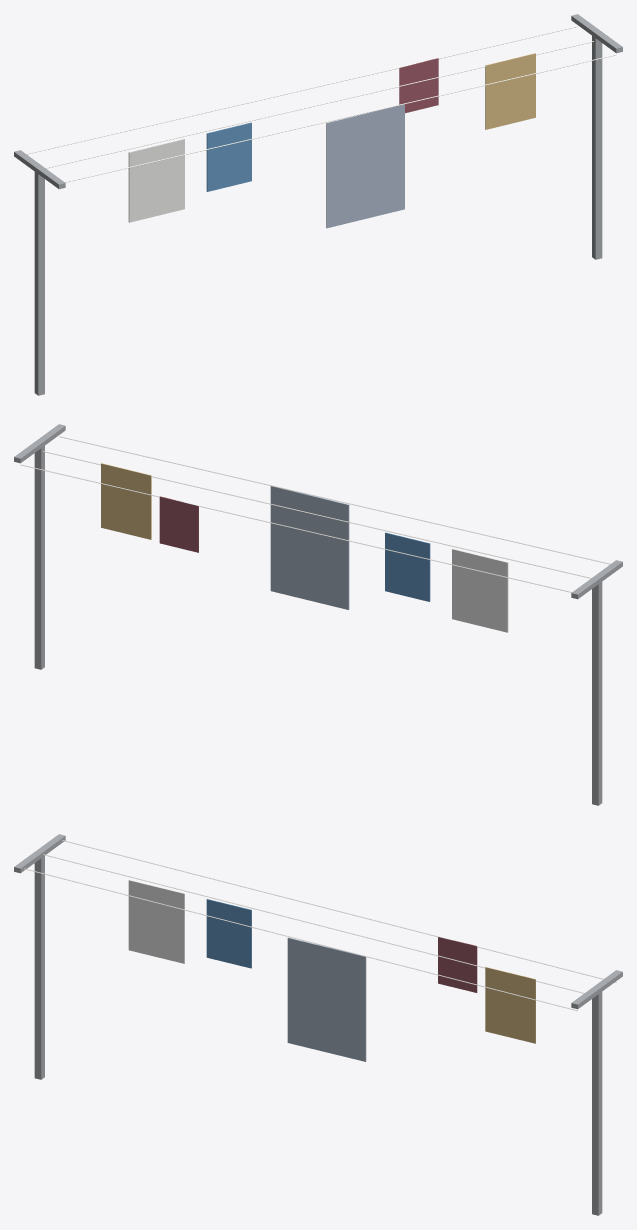
Rendered from washing_line.glb.
The picture shows the model from 3 angles, top to bottom: view 1: azimuth 30°, elevation 25°; view 2: azimuth 150°, elevation 25°; view 3: azimuth 330°, elevation 25°; orthographic projection.
Visible parts, largest first — view 1: washing_line_bed_b, washing_line_steel, washing_line_bed_w, washing_line_cushion, washing_line_blue, washing_line_paper, washing_line_velvet; view 2: washing_line_bed_b, washing_line_steel, washing_line_bed_w, washing_line_cushion, washing_line_blue, washing_line_paper, washing_line_velvet; view 3: washing_line_bed_b, washing_line_steel, washing_line_bed_w, washing_line_cushion, washing_line_blue, washing_line_paper, washing_line_velvet.
Part boxes in pixels (x1=…): washing_line_bed_b: x1=326, y1=104, x2=404, y2=228; washing_line_steel: x1=14, y1=14, x2=622, y2=395; washing_line_bed_w: x1=128, y1=139, x2=184, y2=222; washing_line_cushion: x1=485, y1=53, x2=535, y2=129; washing_line_blue: x1=206, y1=122, x2=251, y2=191; washing_line_paper: x1=26, y1=26, x2=616, y2=182; washing_line_velvet: x1=399, y1=58, x2=438, y2=113; washing_line_bed_b: x1=270, y1=486, x2=349, y2=609; washing_line_steel: x1=14, y1=424, x2=622, y2=805; washing_line_bed_w: x1=452, y1=549, x2=508, y2=632; washing_line_cushion: x1=101, y1=463, x2=151, y2=539; washing_line_blue: x1=385, y1=532, x2=430, y2=601; washing_line_paper: x1=20, y1=436, x2=610, y2=592; washing_line_velvet: x1=159, y1=496, x2=198, y2=552; washing_line_bed_b: x1=287, y1=937, x2=366, y2=1061; washing_line_steel: x1=14, y1=834, x2=622, y2=1215; washing_line_bed_w: x1=128, y1=880, x2=184, y2=963; washing_line_cushion: x1=485, y1=967, x2=535, y2=1043; washing_line_blue: x1=206, y1=899, x2=251, y2=968; washing_line_paper: x1=23, y1=840, x2=616, y2=1011; washing_line_velvet: x1=438, y1=937, x2=477, y2=992.
Size of the model in its own units: 5.06 by 1.94 by 0.7.
